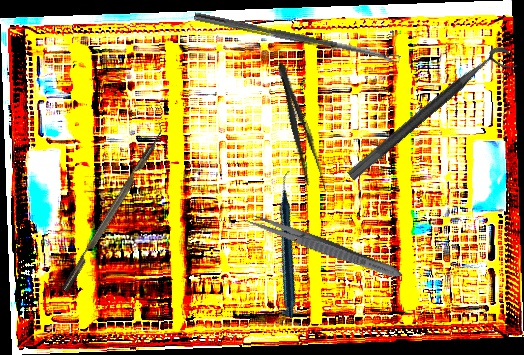Chopper: (53, 119, 170, 292)
Dressing Forceps: (242, 209, 405, 284), (270, 59, 330, 196)
Fixation Ring: (345, 41, 520, 195)
Handpiece: (220, 170, 360, 319)
Surgical Spoon: (193, 12, 401, 65)
